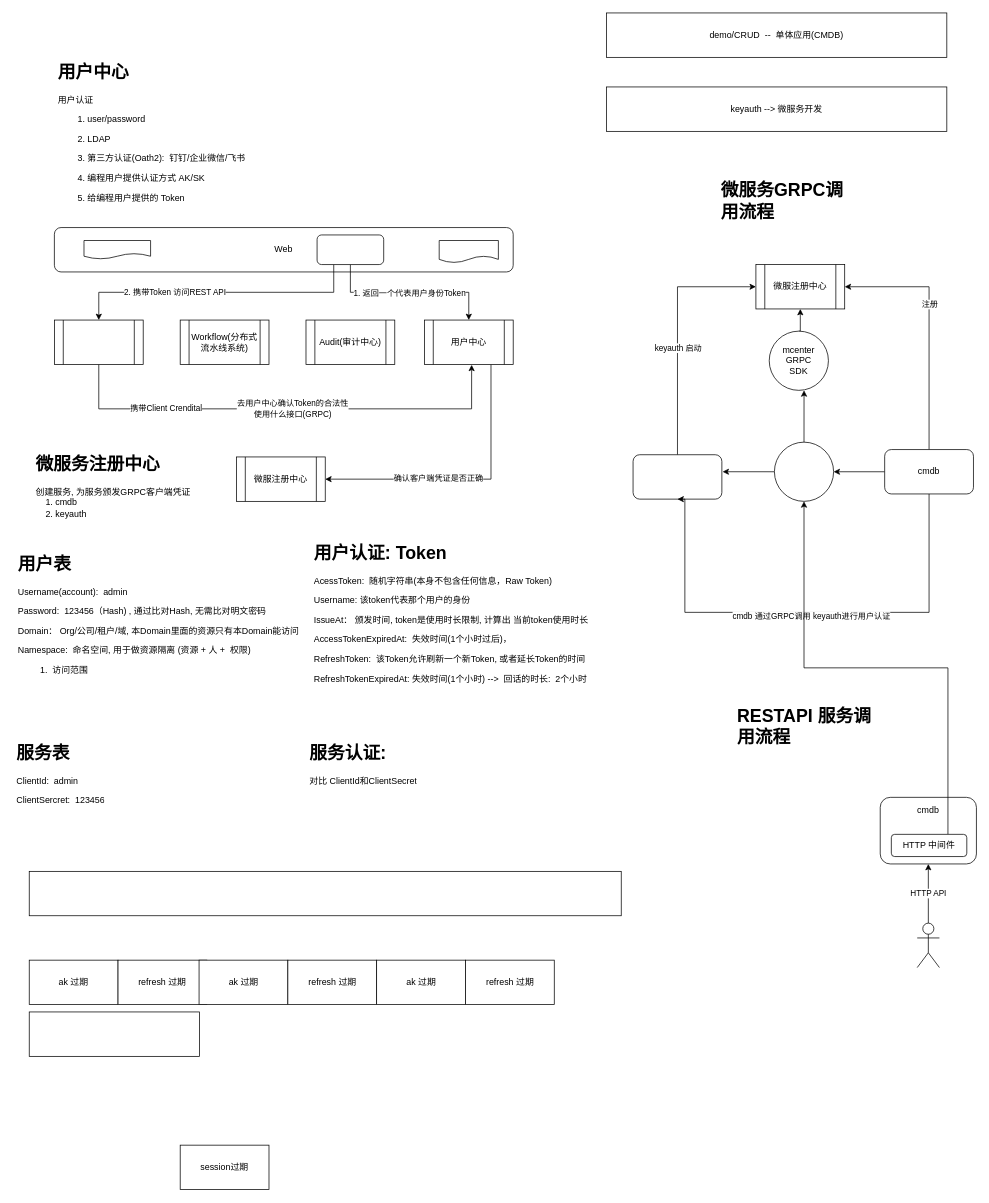
The diagram is 989 pixels wide and 1203 high, and some of its shapes have lost their labels. Each missing label, with the centre of its shape:
"Actor" belongs at point 927,945.
"Audit相关页面" belongs at point 468,251.
"cdmb相关页面" belongs at point 117,249.
"CMDB(资源中心)" belongs at point 98,341.
"keyauth" belongs at point 677,476.
"keyauth GRPC SDK" belongs at point 804,471.
"Login user/password" belongs at point 350,249.
"session: 通过token过期时间管理session" belongs at point 324,893.
"session时长" belongs at point 113,1033.
